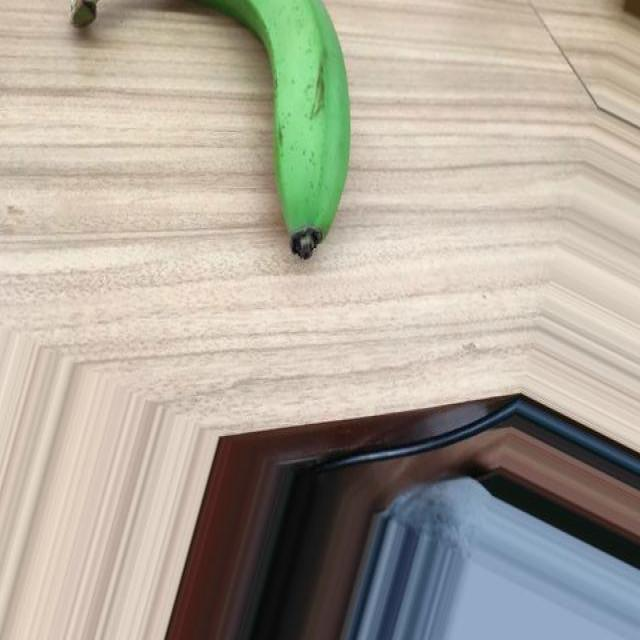Unripe: (72, 0, 353, 259)
